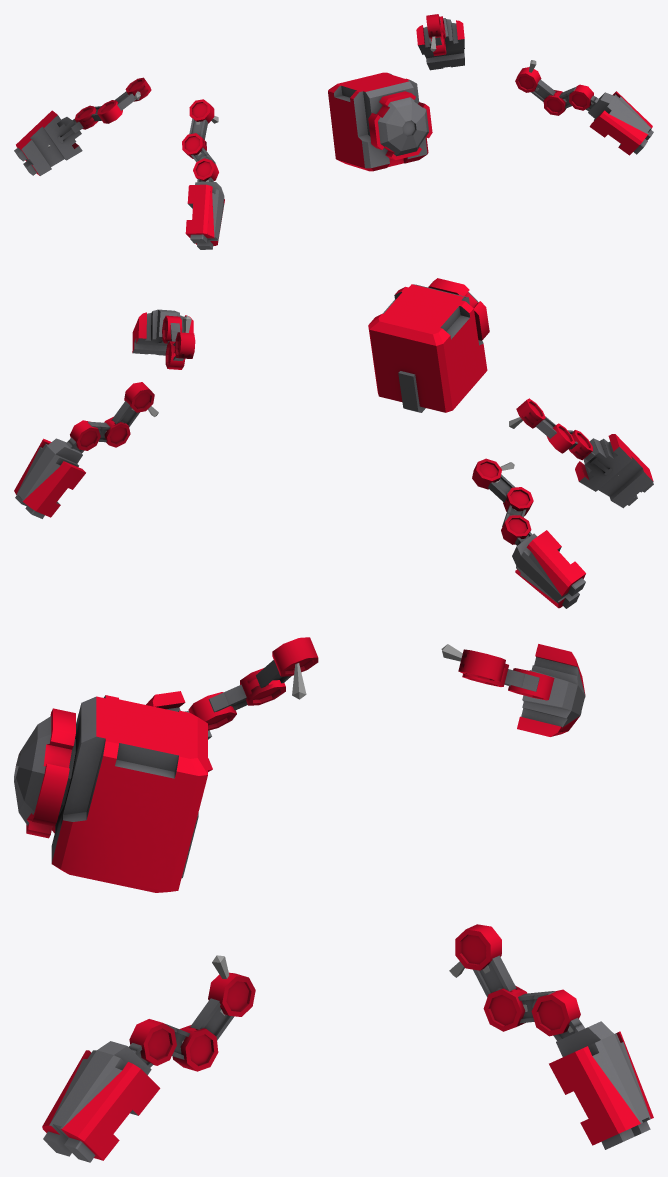
The model's file is Monster1_Die8.obj.
3 views of the same model, one above another, from view 1: azimuth 30°, elevation 25°; view 2: azimuth 150°, elevation 25°; view 3: azimuth 270°, elevation 25° (orthographic). The views are drawn at different scales.
Visible parts, largest first — view 1: Box006, Object025, Object017, Object021, Object013, Object018, Object022, Object026, Object023, Object019, Object020, Object027 (+3 smaller); view 2: Box006, Object013, Object025, Object021, Object017, Object014, Object026, Object022, Object016, Object015, Object027, Object028 (+4 smaller); view 3: Box006, Object017, Object013, Object025, Object014, Object018, Object016, Object015, Object022, Object020, Object019, Object023 (+3 smaller).
Boxes of the visible parts, left/top/right/bottom form: Box006: left=328, top=72, right=432, bottom=171; Object025: left=14, top=110, right=82, bottom=175; Object017: left=588, top=91, right=653, bottom=155; Object021: left=185, top=182, right=224, bottom=249; Object013: left=416, top=18, right=464, bottom=70; Object018: left=515, top=67, right=555, bottom=101; Object022: left=189, top=99, right=214, bottom=139; Object026: left=115, top=77, right=151, bottom=110; Object023: left=182, top=133, right=215, bottom=163; Object019: left=543, top=87, right=576, bottom=115; Object020: left=569, top=84, right=598, bottom=111; Object027: left=91, top=100, right=122, bottom=123; Box006: left=368, top=278, right=489, bottom=412; Object013: left=14, top=438, right=85, bottom=518; Object025: left=512, top=530, right=585, bottom=608; Object021: left=575, top=434, right=653, bottom=508; Object017: left=132, top=309, right=193, bottom=355; Object014: left=112, top=382, right=154, bottom=426; Object026: left=472, top=458, right=515, bottom=502; Object022: left=516, top=398, right=556, bottom=438; Object016: left=66, top=420, right=100, bottom=453; Object015: left=88, top=416, right=130, bottom=447; Object027: left=502, top=487, right=533, bottom=526; Object028: left=501, top=515, right=532, bottom=545; Box006: left=14, top=695, right=207, bottom=892; Object017: left=42, top=1041, right=160, bottom=1162; Object013: left=549, top=1021, right=653, bottom=1149; Object025: left=517, top=644, right=585, bottom=736; Object014: left=455, top=924, right=516, bottom=997; Object018: left=190, top=972, right=255, bottom=1040; Object016: left=531, top=989, right=585, bottom=1040; Object015: left=483, top=985, right=555, bottom=1031; Object022: left=256, top=637, right=318, bottom=688; Object020: left=129, top=1019, right=176, bottom=1067; Object019: left=165, top=1024, right=218, bottom=1071; Object023: left=208, top=668, right=285, bottom=712.
Size of the model in its own units: 424 by 107 by 248.
